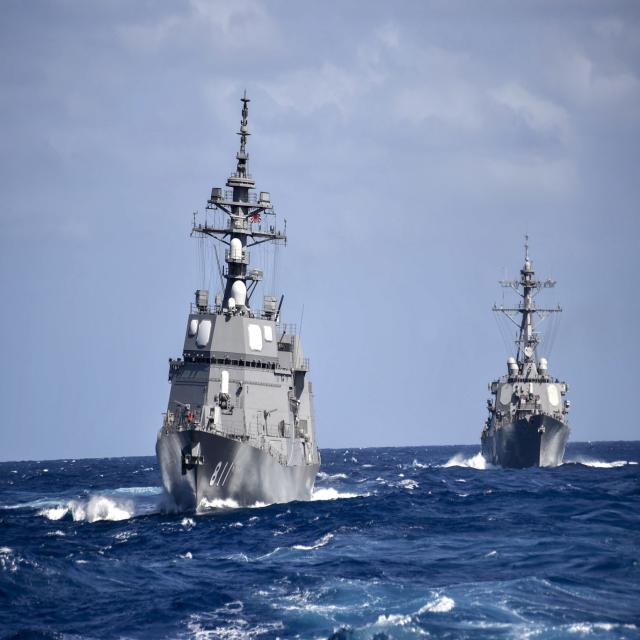navalvessels: (140, 98, 364, 540), (470, 242, 613, 472)
